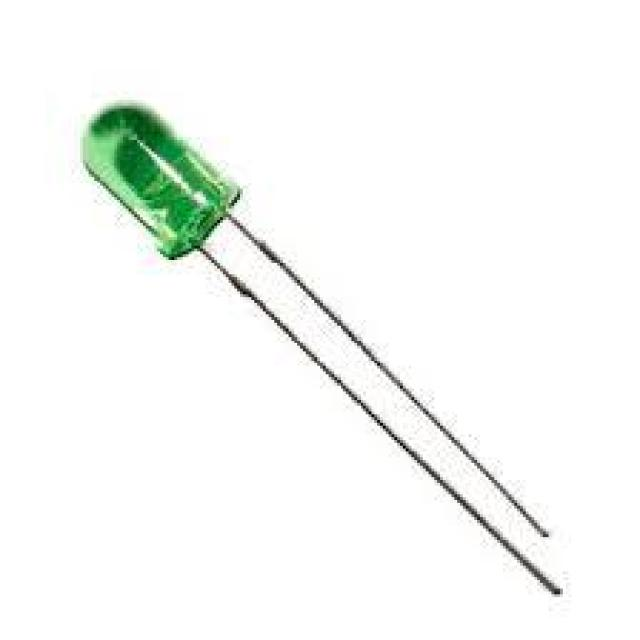Led: (88, 105, 422, 407)
